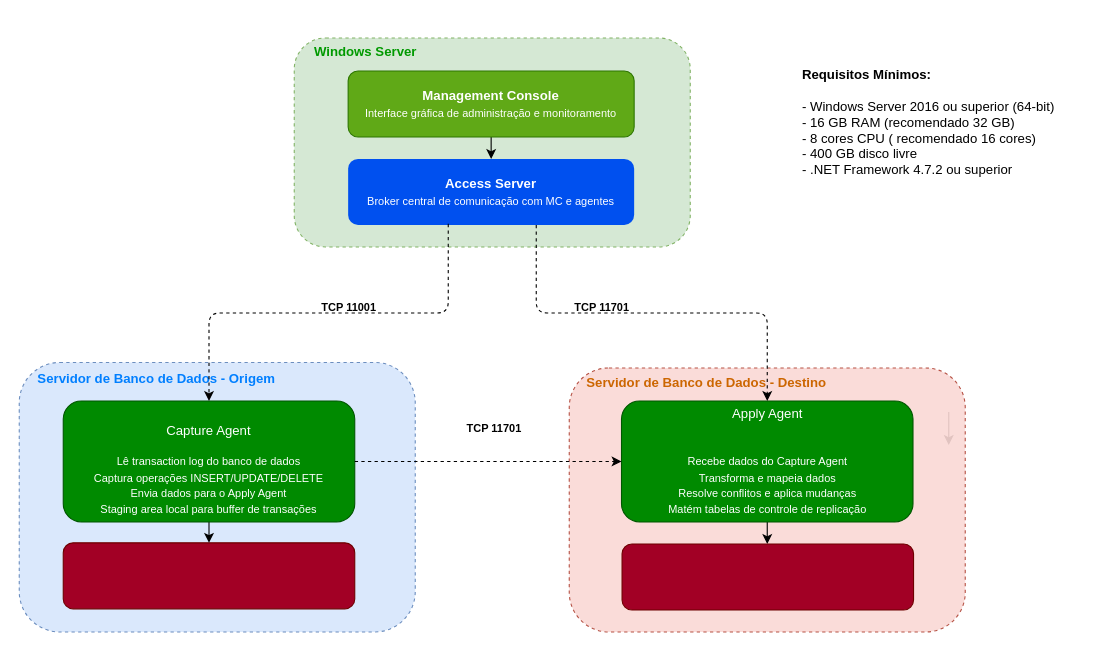
The diagram is 1117 pixels wide and 651 high, and some of its shapes have lost their labels. The box of each missing label's shape, as (x1, y1, x2, y2) in pixels:
Source Database DB2 / PostgreSQL / MySQL ...: (62, 542, 355, 609)
Target Database DB2 / PostgreSQL / MySQL ...: (621, 543, 914, 610)
